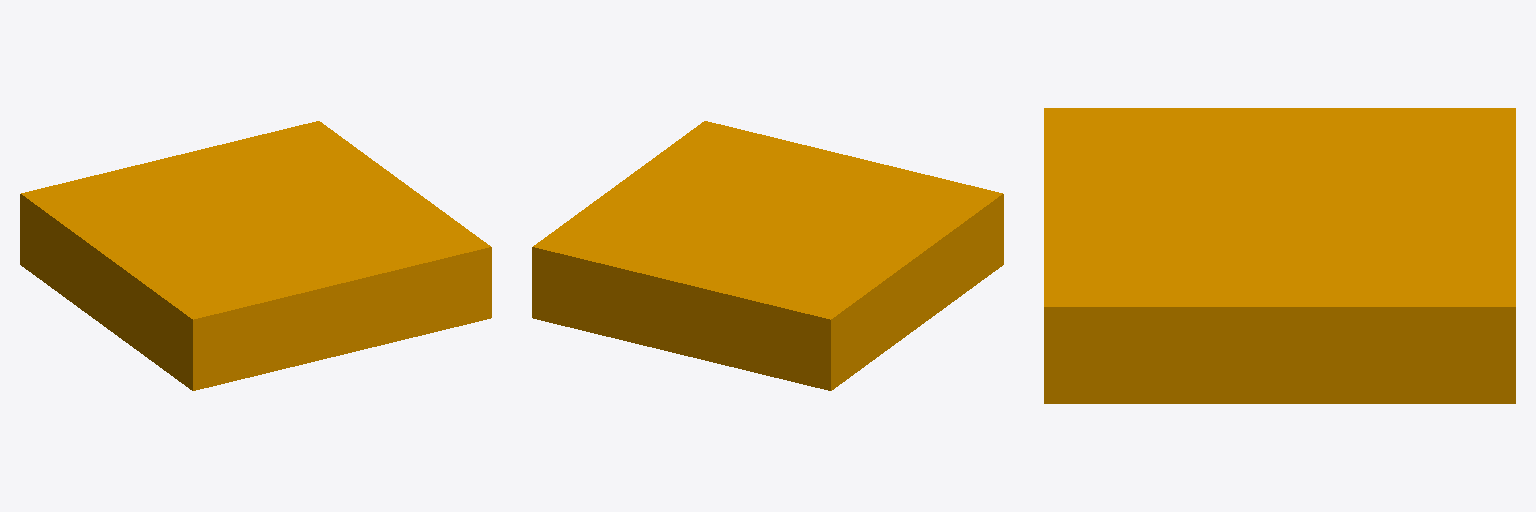
URDF robot description (canera3d):
<?xml version="1.0" ?>
<robot name="canera3d">
  <link name="base">
    <inertial>
      <mass value="0.1"/>
      <origin rpy="0 0 0" xyz="0.0 0.0 0.0"/>
      <inertia ixx="0.0" ixy="0.0" ixz="0.0" iyy="0.0" iyz="0.0" izz="0.0"/>
    </inertial>
    <visual>
      <origin rpy="0.0 0 0" xyz="0 0 0"/>
      <geometry>
        <mesh filename="camera2d.obj" scale="1 1 1"/>
      </geometry>
    </visual>
    <collision>
      <origin rpy="0.0 0 0" xyz="0 0 0"/>
      <geometry>
        <mesh filename="camera2d.obj" scale="1 1 1"/>
      </geometry>
    </collision>
  </link>
</robot>

--- Facts derived from the render (not from the file) ---
The picture shows the robot from 3 angles, left to right: view 1: azimuth 30°, elevation 25°; view 2: azimuth 150°, elevation 25°; view 3: azimuth 270°, elevation 25°; orthographic projection.
Model canera3d with 1 links and 0 joints (none), rooted at base, posed every joint at zero.
Links seen in each view (by area): view 1: base; view 2: base; view 3: base.
Boxes of the visible links, <box> form: base: <box>20,121,491,390</box>; base: <box>532,121,1003,390</box>; base: <box>1044,108,1515,403</box>.
Size in the robot's own frame: 0.0378 by 0.0378 by 0.014 metres.
Meshes: 1 distinct files referenced, 1 mesh visuals loaded (1 OBJ).